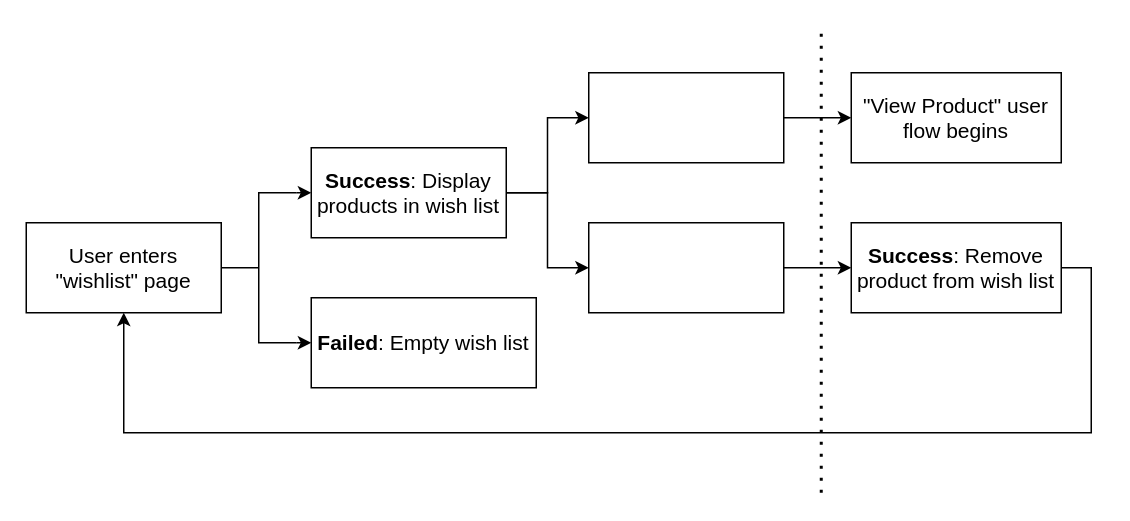
Image size: 1130x521. Some labels were removed from this diagram. The box of each missing label's shape, as (x1, y1, x2, y2) in pixels:
User clicks a product: (587, 71, 784, 163)
User deletes a product: (587, 221, 784, 313)
